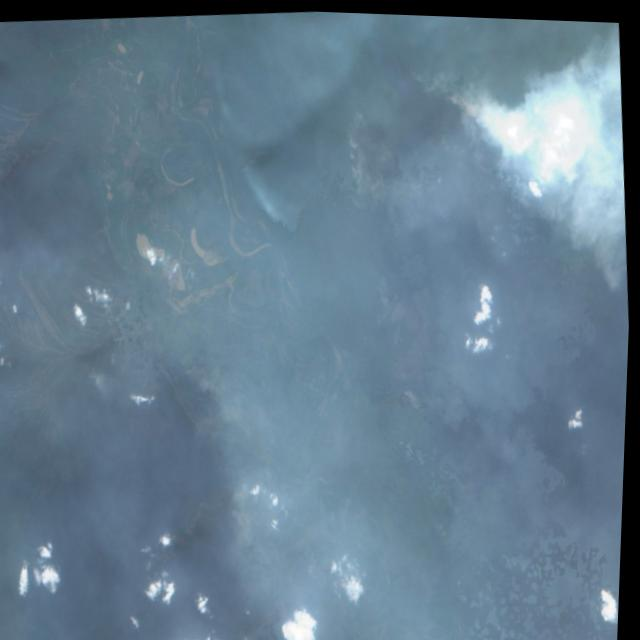fire: (313, 48, 547, 542), (77, 334, 292, 527)
